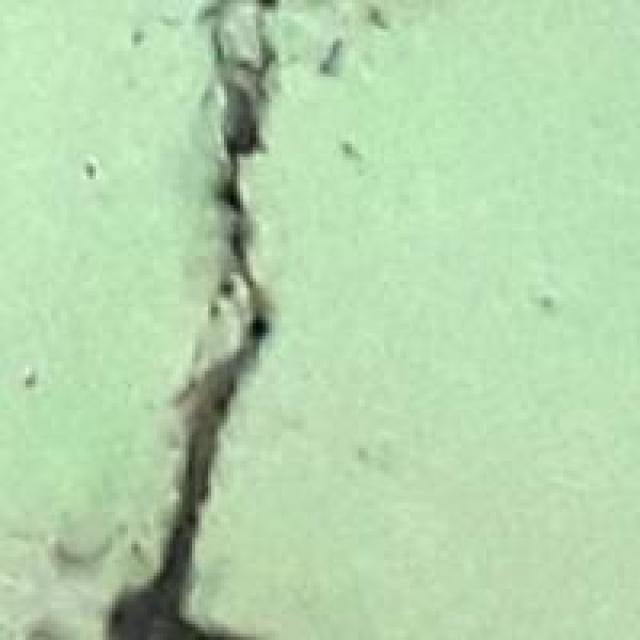Crack: (106, 0, 346, 637)
